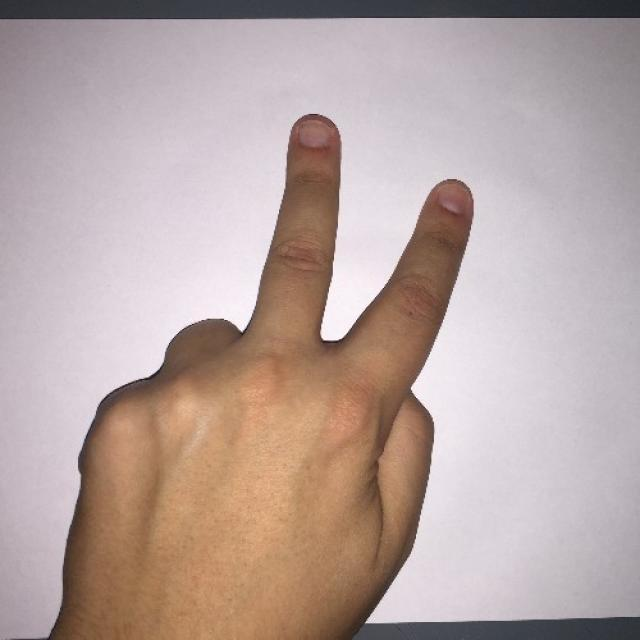scissors: (82, 110, 476, 640)
